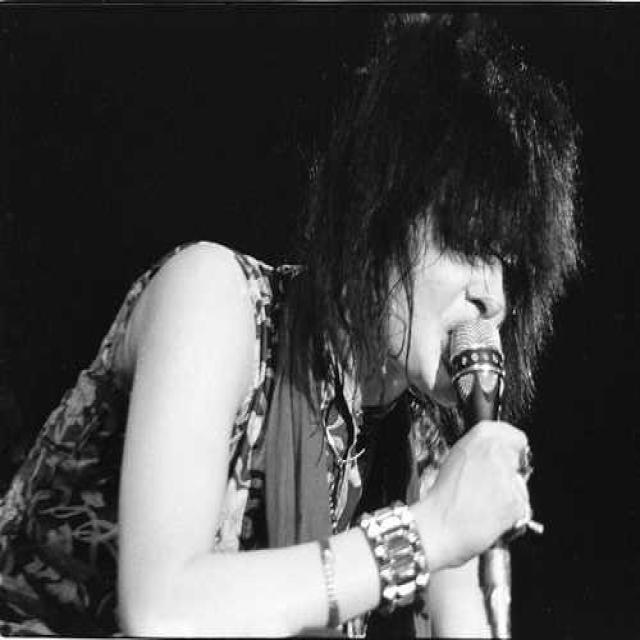microphone: (434, 304, 550, 620)
